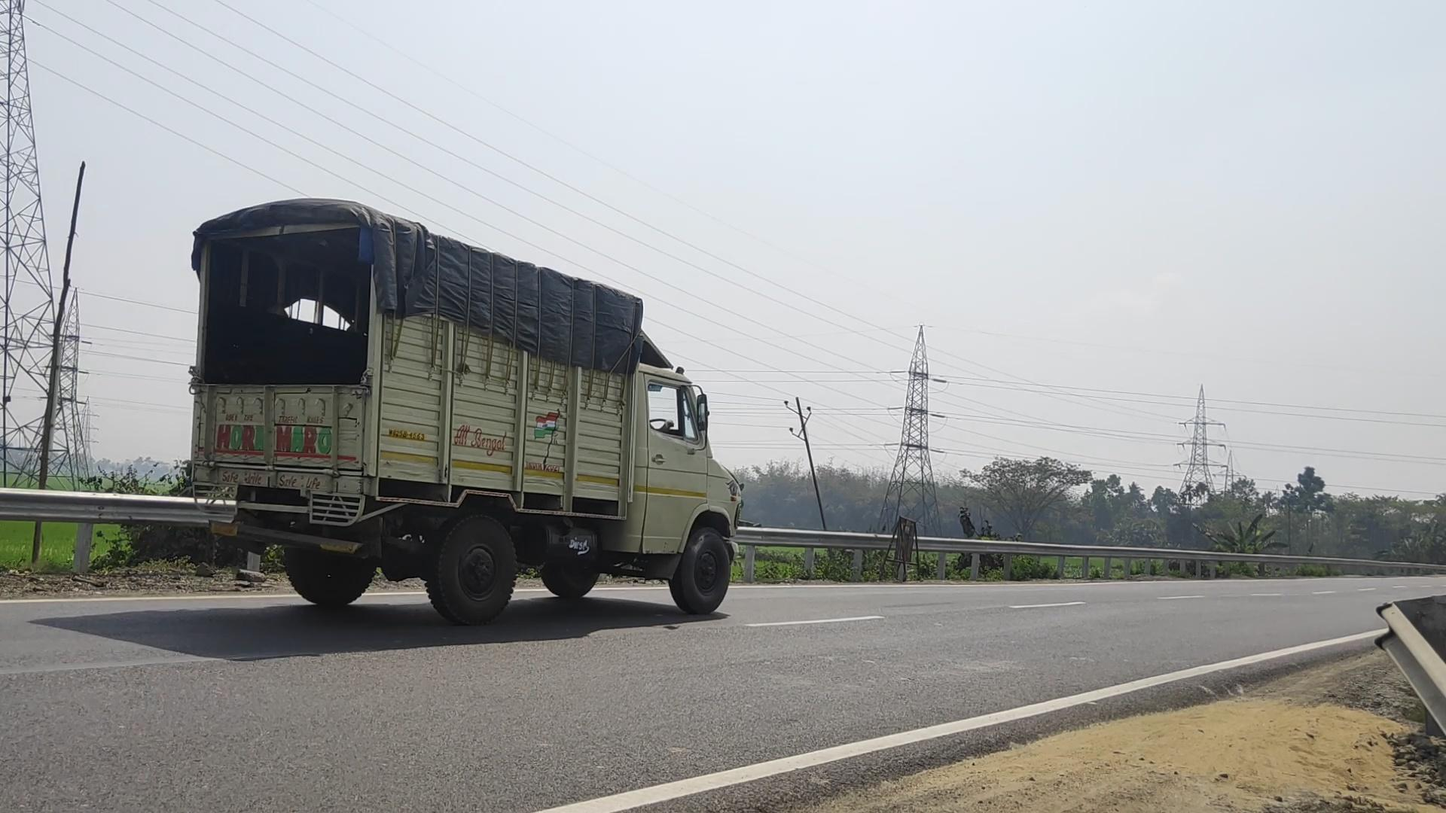truck: (188, 197, 743, 627)
